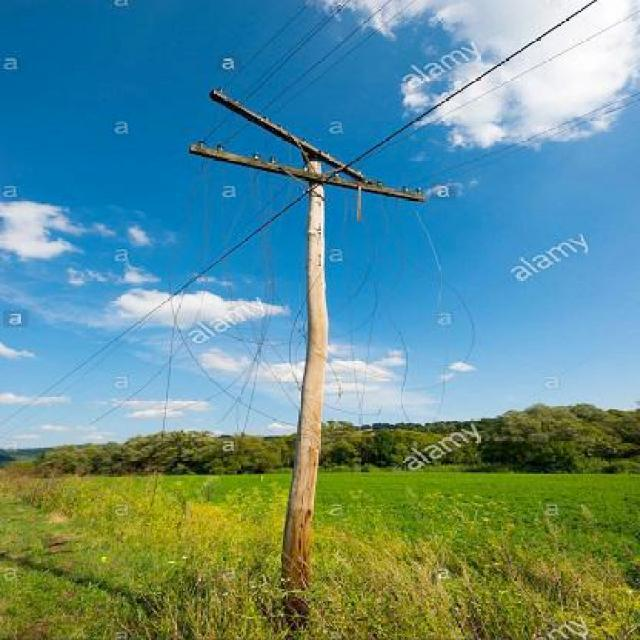crossarm: (210, 89, 374, 183), (192, 146, 371, 189), (382, 191, 423, 200)
pole: (278, 140, 337, 594)
wire: (0, 0, 600, 428)
